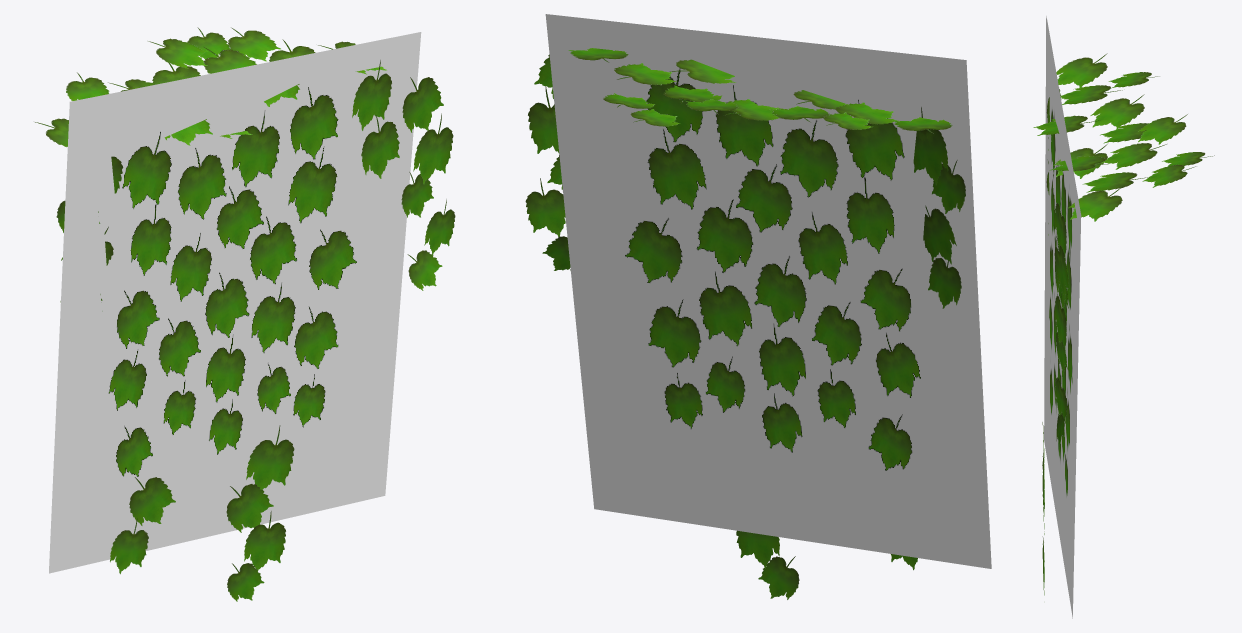
The model's file is tuta_short.FBX.
3 renders of one model, left to right at view 1: azimuth 30°, elevation 25°; view 2: azimuth 150°, elevation 25°; view 3: azimuth 270°, elevation 25°, orthographic. The views are drawn at different scales.
Visible parts, largest first — view 1: オブジェクト001, Plane002; view 2: オブジェクト001, Plane002; view 3: オブジェクト001, Plane002.
Boxes of the visible parts, bbox=[...] form: オブジェクト001: bbox=[49, 32, 421, 573]; Plane002: bbox=[35, 27, 455, 601]; オブジェクト001: bbox=[545, 14, 991, 568]; Plane002: bbox=[525, 48, 965, 599]; オブジェクト001: bbox=[1044, 16, 1081, 618]; Plane002: bbox=[1033, 53, 1214, 595].
Bounding box in the file's own units: 273 × 323 × 117.
